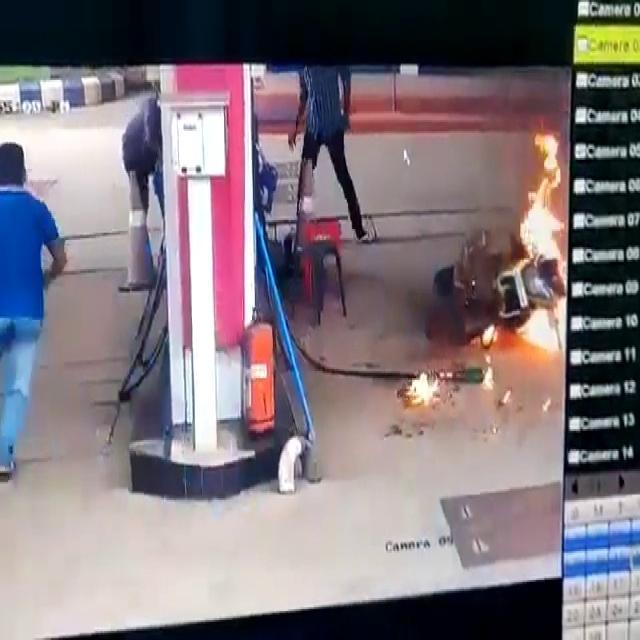Fire: (502, 127, 566, 266), (512, 296, 564, 362), (404, 364, 446, 409)
Smoke: (300, 248, 460, 390)
